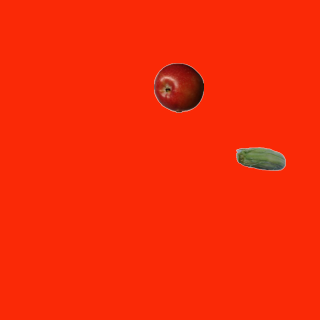Apple Braeburn: (153, 62, 203, 112)
Corn Husk: (235, 135, 285, 185)
